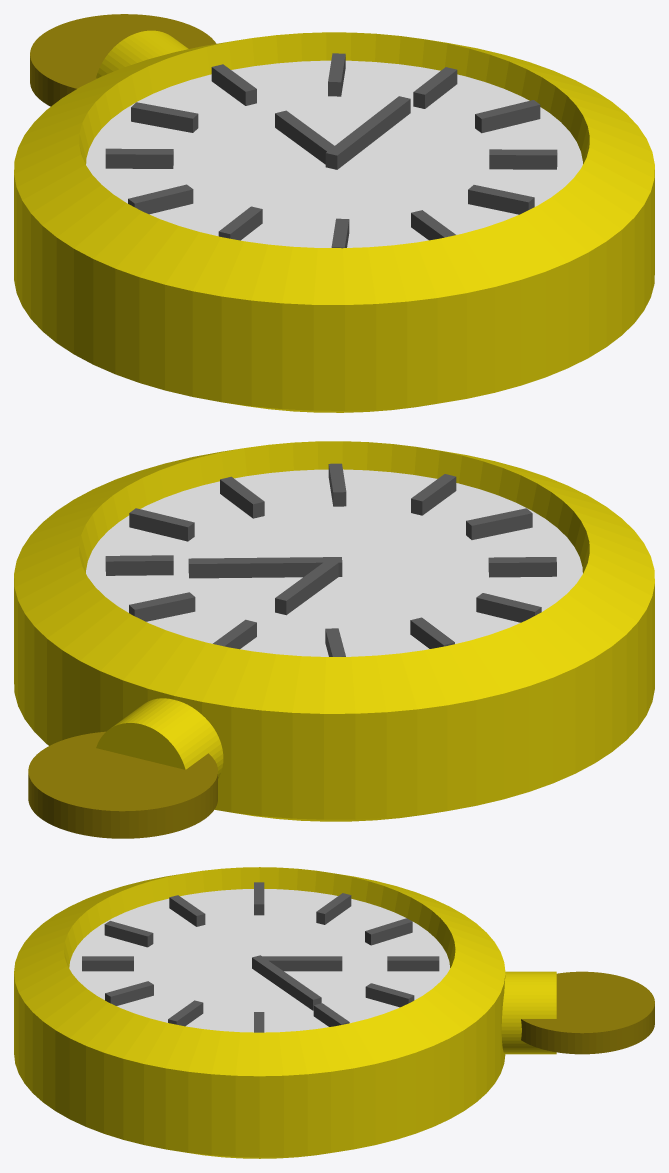
The model's file is WatchIcon.fbx.
3 renders of one model, top to bottom at view 1: azimuth 30°, elevation 25°; view 2: azimuth 150°, elevation 25°; view 3: azimuth 270°, elevation 25°, orthographic. The views are drawn at different scales.
Parts seen in each view (by area): view 1: Cylinder.001; view 2: Cylinder.001; view 3: Cylinder.001.
Boxes of the visible parts, x1,y1,x2,y2 form: Cylinder.001: [14, 14, 654, 412]; Cylinder.001: [14, 441, 654, 838]; Cylinder.001: [14, 867, 654, 1158].
Bounding box in the file's own units: 200 × 57.04 × 261.
